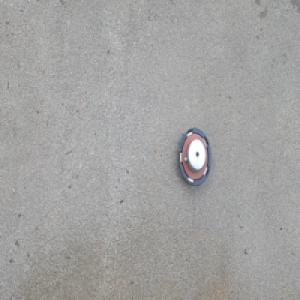FuelCap: (176, 124, 211, 186)
